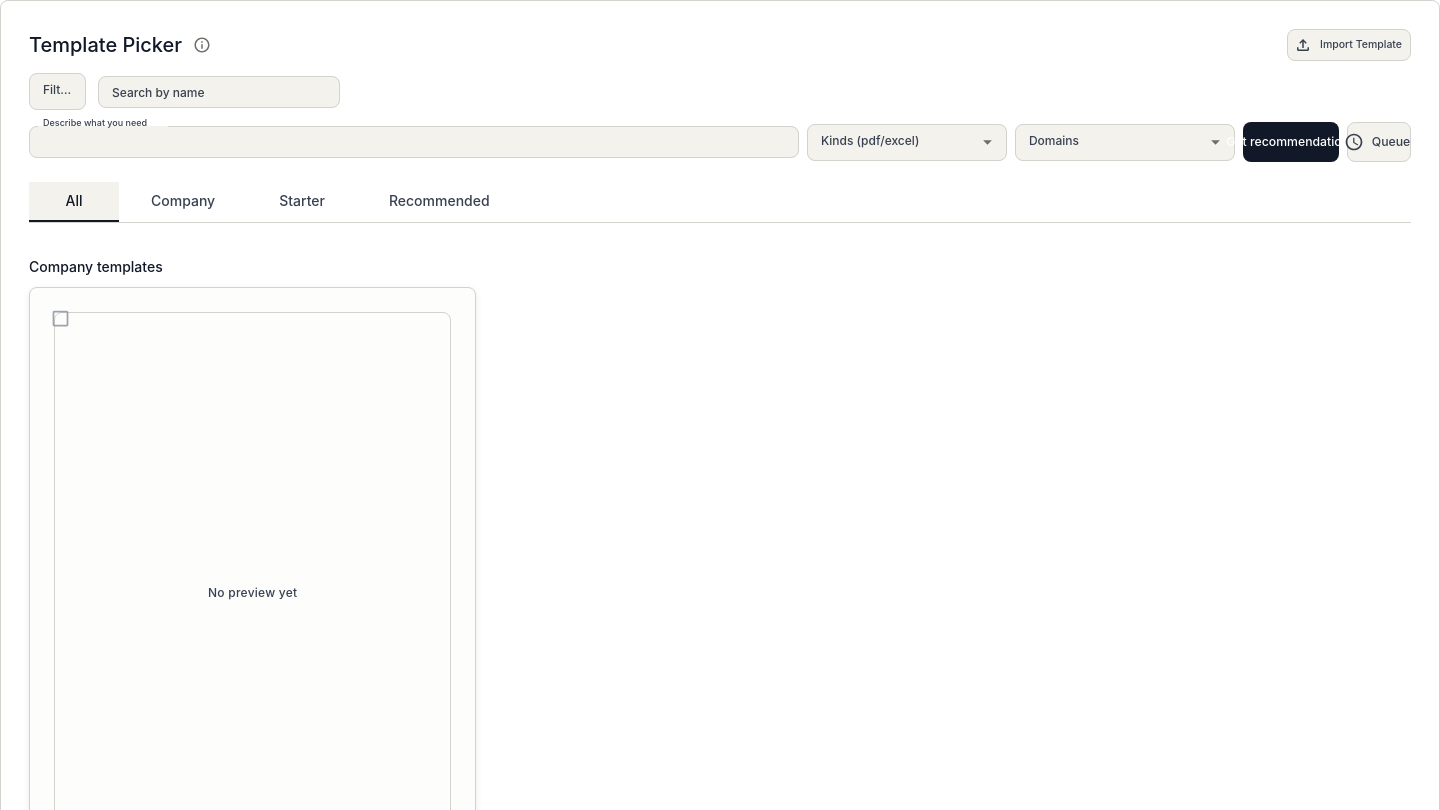
Test: TemplatePicker recommended tab › Find in "All" templates switches tabs and filters company list
Step 1. Type "Need finance" into the field labelled "Describe what you need" → {"x": 414, "y": 142}, box [29, 126, 799, 158]
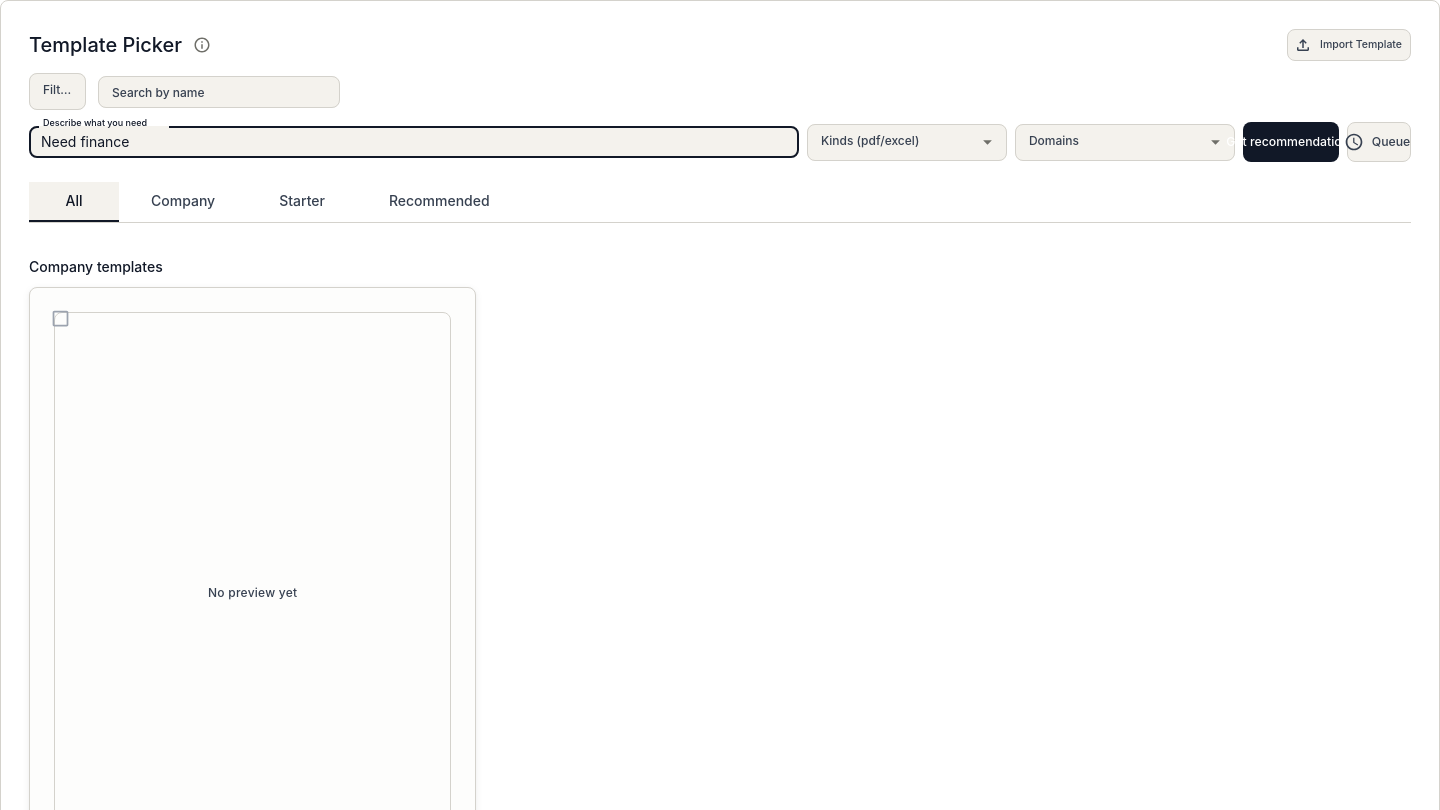
Step 2. Click the button "Get recommendations" → {"x": 1291, "y": 142}, box [1243, 122, 1339, 162]
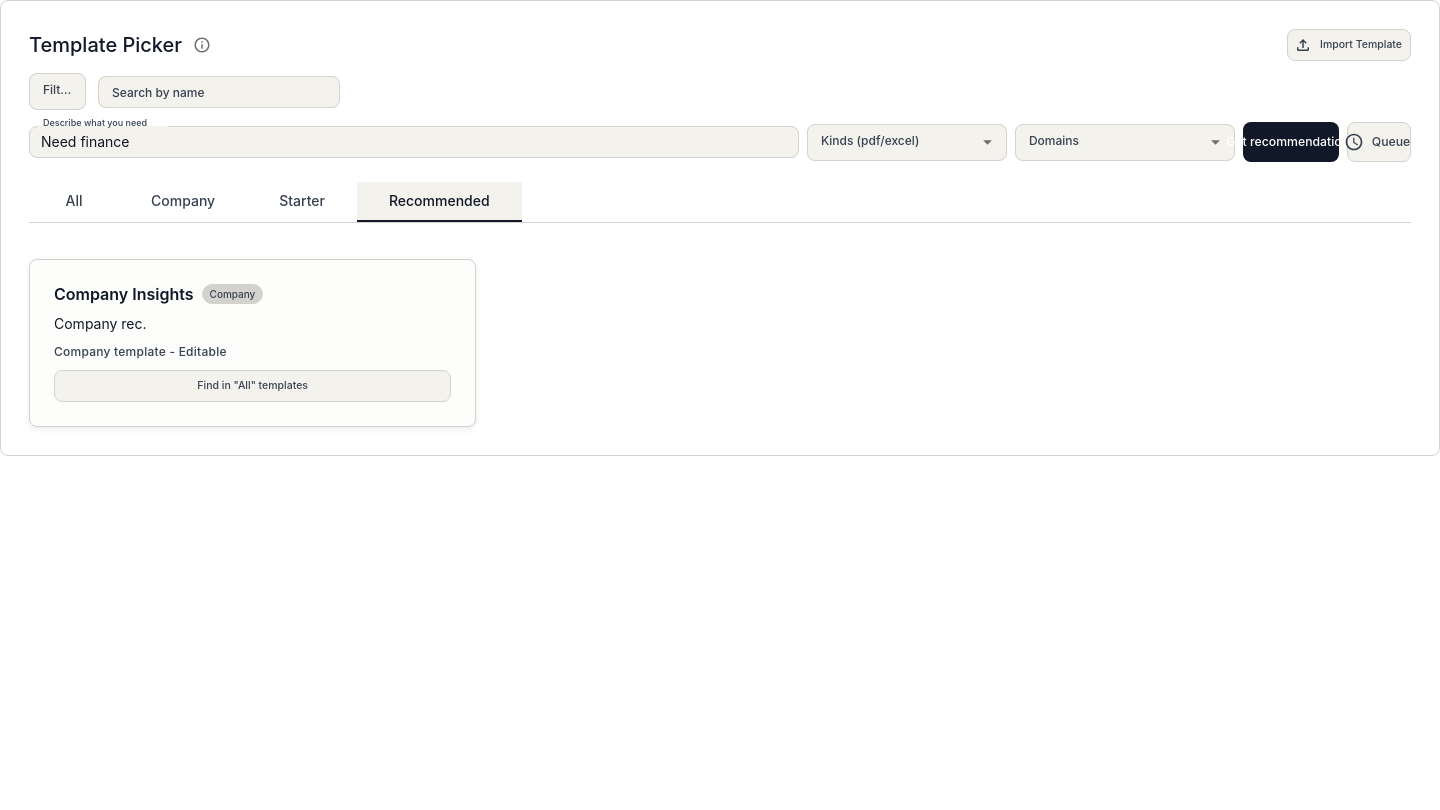
Step 3. Click the button "Find in \"All\" templates" → {"x": 253, "y": 386}, box [54, 370, 451, 402]
(page scrolled)
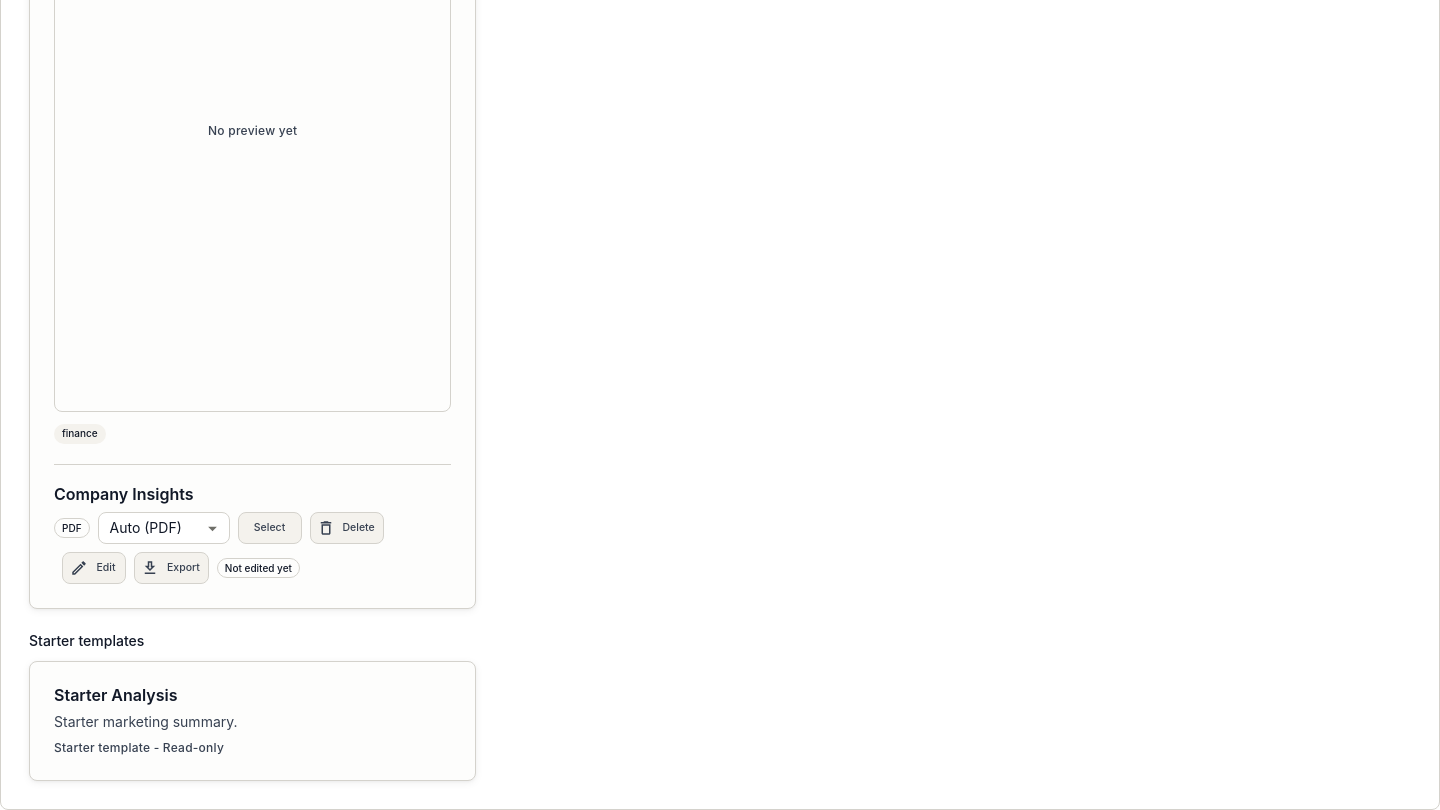
Check: the heading "Starter templates" is shown, box [29, 632, 144, 649]
